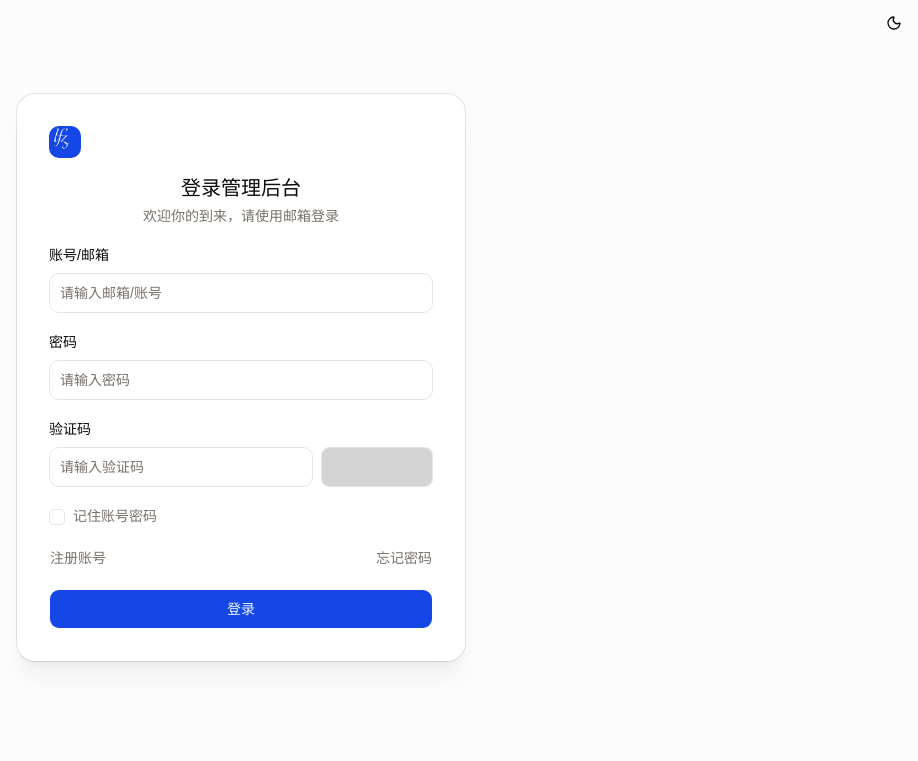
Test case: LoginFeature › switches to registration without navigating
Click the button "注册账号". click: {"x": 78, "y": 558}
box: [49,546,107,568]
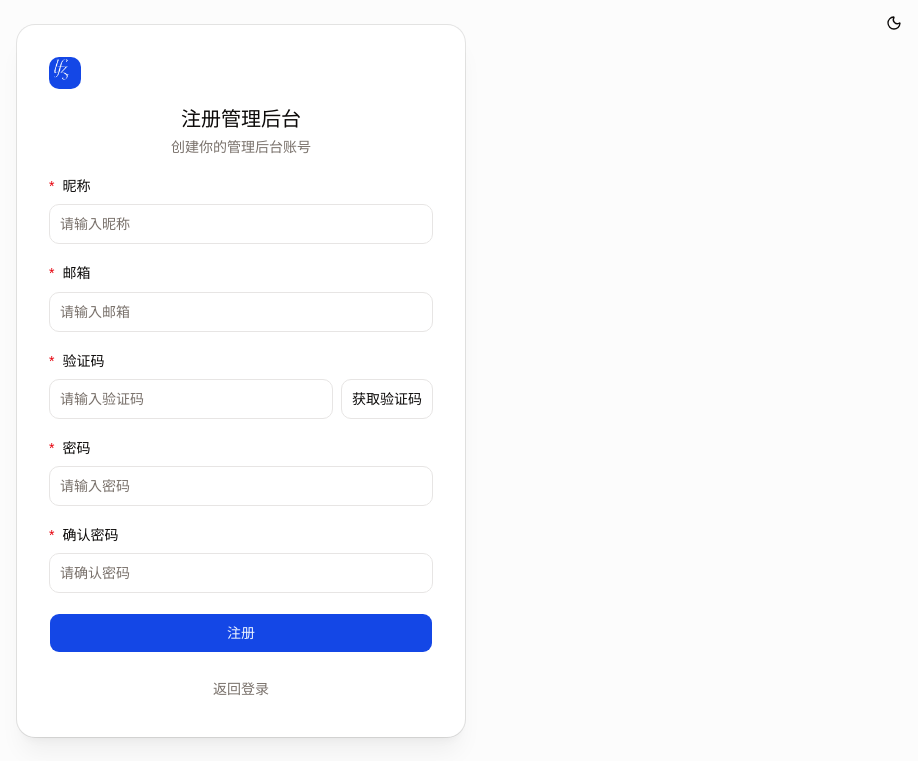
Now the text "注册管理后台" is shown, box [181,108,301,130]
Now the field labelled "* 邮箱" is shown, box [49,292,433,332]
Now the button "返回登录" is shown, box [49,673,433,705]
